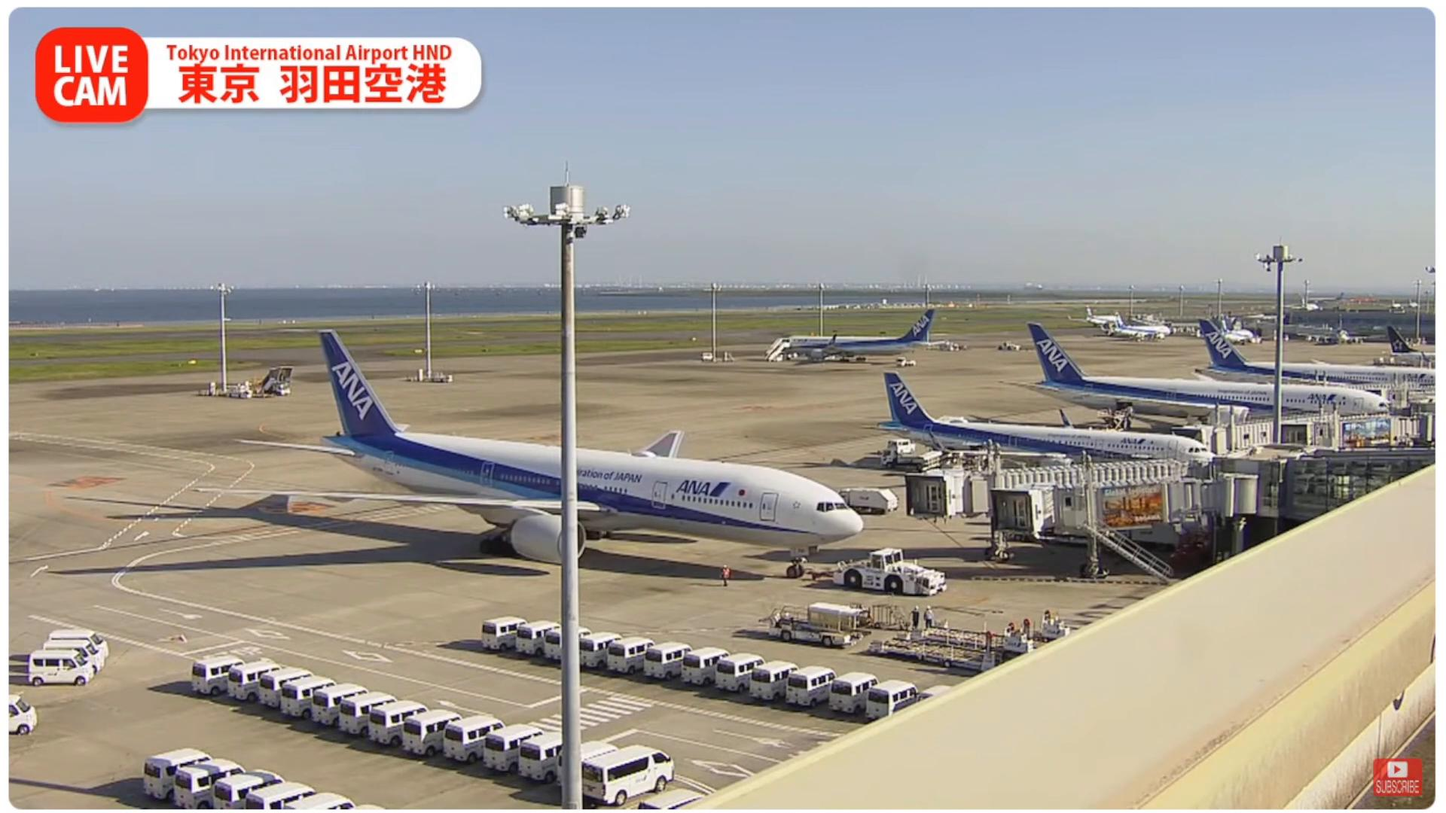APS: (823, 545, 958, 598)
Aerobridge: (904, 456, 1198, 520), (988, 479, 1258, 539)
Airplane: (216, 320, 870, 583)
JCPL: (904, 613, 1077, 658), (867, 634, 1012, 675)
Skyloader: (761, 600, 870, 651)
Window: (1281, 462, 1437, 524)
